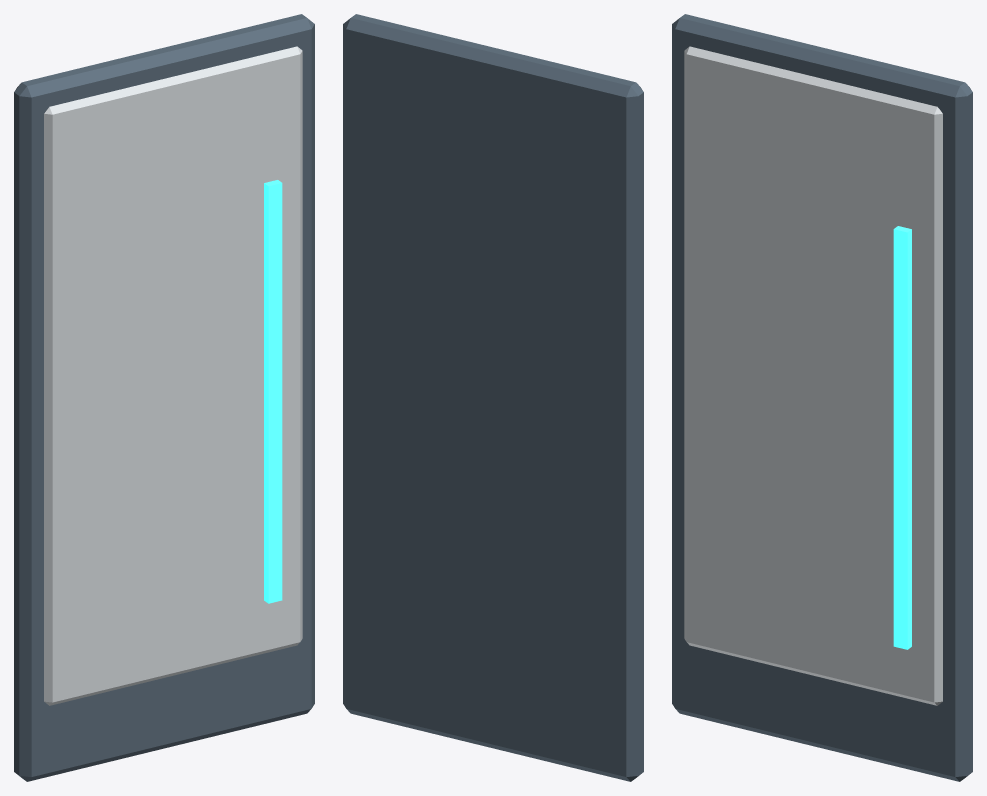
The model's file is base-DoorSingle.fbx.
3 renders of one model, left to right at view 1: azimuth 30°, elevation 25°; view 2: azimuth 150°, elevation 25°; view 3: azimuth 330°, elevation 25°, orthographic.
Parts seen in each view (by area): view 1: base-DoorSingle_Inset.001, base-DoorSingle_Leaf.001, base-DoorSingle_Door status.001; view 2: base-DoorSingle_Leaf.001; view 3: base-DoorSingle_Inset.001, base-DoorSingle_Leaf.001, base-DoorSingle_Door status.001.
Part boxes in pixels (bbox=[...]): base-DoorSingle_Inset.001: bbox=[44, 46, 302, 705]; base-DoorSingle_Leaf.001: bbox=[14, 14, 314, 781]; base-DoorSingle_Door status.001: bbox=[264, 180, 282, 603]; base-DoorSingle_Leaf.001: bbox=[343, 14, 643, 781]; base-DoorSingle_Inset.001: bbox=[684, 46, 942, 705]; base-DoorSingle_Leaf.001: bbox=[672, 14, 972, 781]; base-DoorSingle_Door status.001: bbox=[893, 226, 911, 649].
Bounding box in the file's own units: 96 × 216 × 13.25.
